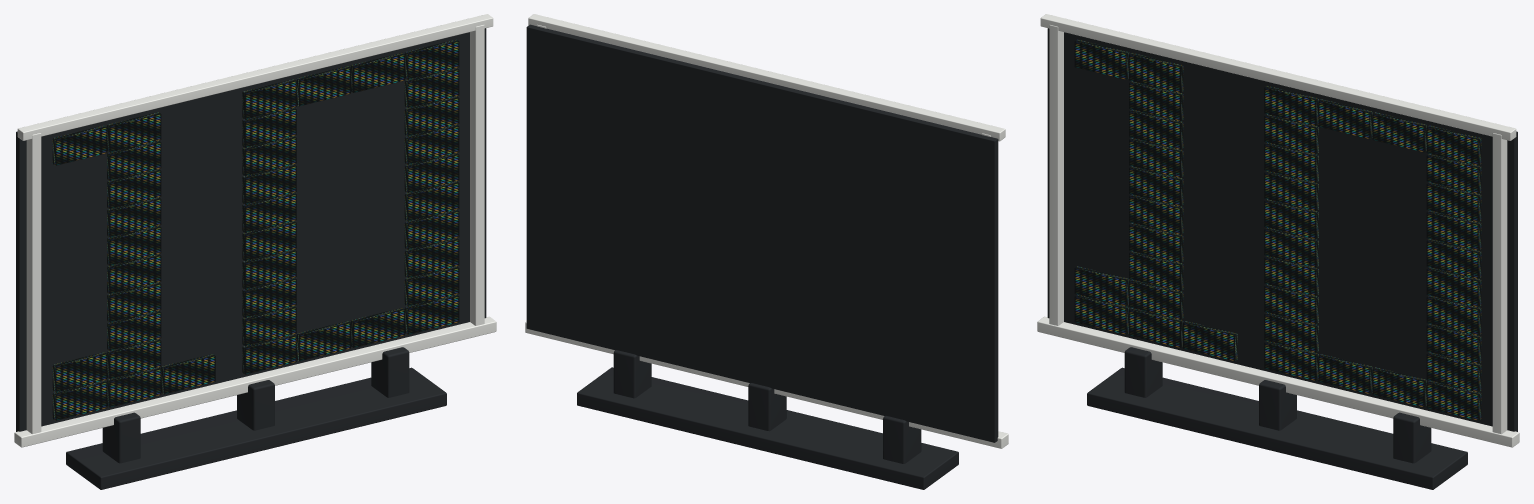
Rendered from signage-10.glb.
3 renders of one model, left to right at view 1: azimuth 30°, elevation 25°; view 2: azimuth 150°, elevation 25°; view 3: azimuth 330°, elevation 25°, orthographic.
Parts seen in each view (by area): view 1: 10 shape rear shadow frame, 10 shape floor base, 10 shape base rail, 10 shape top rail, 10 shape left upright, 10 shape right upright, 10 shape support foot.002, ten one LED module 0-1, ten one LED module 0-9, 10 shape support foot, ten zero LED module 3-4, ten one LED module 0-0 (+35 smaller); view 2: 10 shape rear shadow frame, 10 shape floor base, 10 shape top rail, 10 shape base rail, 10 shape support foot.002, 10 shape support foot.001, 10 shape support foot; view 3: 10 shape rear shadow frame, 10 shape floor base, 10 shape base rail, 10 shape top rail, 10 shape right upright, 10 shape left upright, 10 shape support foot, ten zero LED module 3-9, 10 shape support foot.002, ten zero LED module 3-0, ten zero LED module 3-3, ten zero LED module 3-6 (+35 smaller).
Boxes of the visible parts, x1=… form: 10 shape rear shadow frame: x1=16, y1=28, x2=486, y2=431; 10 shape floor base: x1=66, y1=367, x2=446, y2=489; 10 shape base rail: x1=14, y1=316, x2=496, y2=447; 10 shape top rail: x1=17, y1=14, x2=493, y2=140; 10 shape left upright: x1=26, y1=133, x2=41, y2=434; 10 shape right upright: x1=470, y1=25, x2=484, y2=325; 10 shape support foot.002: x1=371, y1=347, x2=409, y2=397; ten one LED module 0-1: x1=52, y1=352, x2=107, y2=392; ten one LED module 0-9: x1=52, y1=125, x2=107, y2=165; 10 shape support foot: x1=102, y1=412, x2=140, y2=463; ten zero LED module 3-4: x1=404, y1=181, x2=459, y2=221; ten one LED module 0-0: x1=52, y1=380, x2=107, y2=420; 10 shape rear shadow frame: x1=526, y1=24, x2=998, y2=442; 10 shape floor base: x1=577, y1=367, x2=958, y2=489; 10 shape top rail: x1=528, y1=14, x2=1005, y2=141; 10 shape base rail: x1=525, y1=322, x2=1008, y2=448; 10 shape support foot.002: x1=613, y1=350, x2=651, y2=398; 10 shape support foot.001: x1=748, y1=383, x2=786, y2=431; 10 shape support foot: x1=883, y1=416, x2=921, y2=463; 10 shape rear shadow frame: x1=1047, y1=28, x2=1517, y2=431; 10 shape floor base: x1=1087, y1=367, x2=1467, y2=489; 10 shape base rail: x1=1037, y1=316, x2=1519, y2=447; 10 shape top rail: x1=1040, y1=14, x2=1516, y2=140; 10 shape right upright: x1=1492, y1=133, x2=1507, y2=434; 10 shape left upright: x1=1049, y1=25, x2=1063, y2=325; 10 shape support foot: x1=1124, y1=347, x2=1162, y2=397; ten zero LED module 3-9: x1=1426, y1=125, x2=1481, y2=165; 10 shape support foot.002: x1=1393, y1=412, x2=1431, y2=463; ten zero LED module 3-0: x1=1426, y1=380, x2=1481, y2=420; ten zero LED module 3-3: x1=1426, y1=295, x2=1481, y2=335; ten zero LED module 3-6: x1=1426, y1=210, x2=1481, y2=250.
Bounding box in the file's own units: 2.81 × 2.04 × 0.36.
3 materials, 1 textured.
